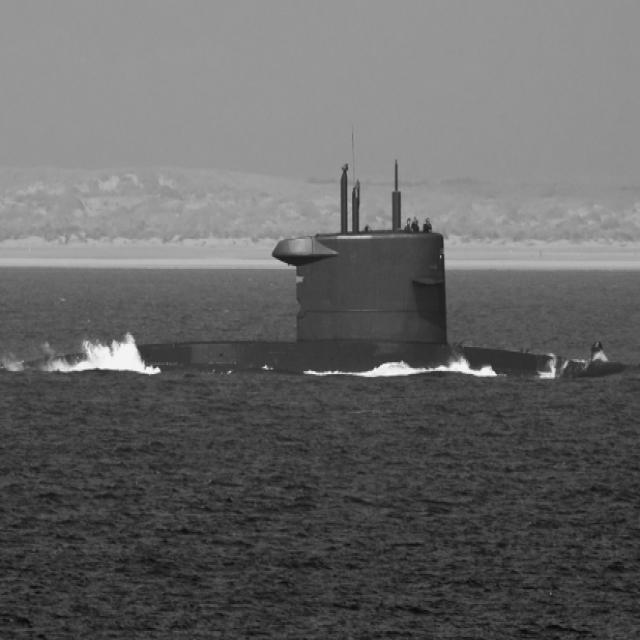submarine: (1, 150, 639, 377)
